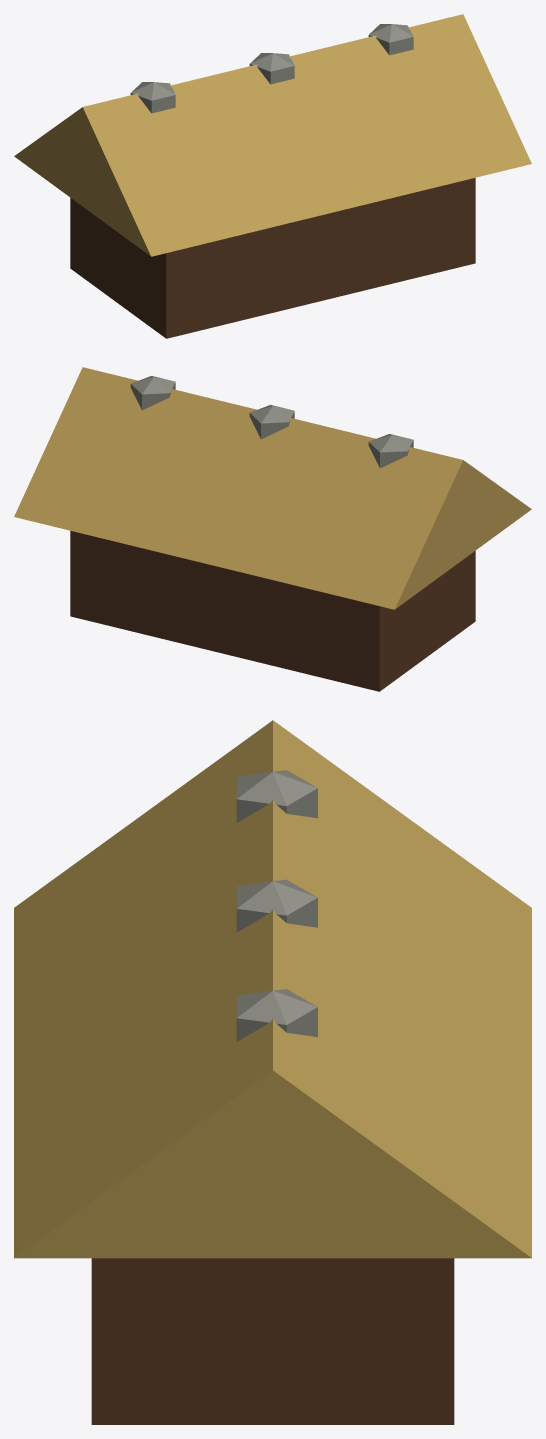
The model's file is prop_life_straw_cover.glb.
3 views of the same model, one above another, from view 1: azimuth 30°, elevation 25°; view 2: azimuth 150°, elevation 25°; view 3: azimuth 270°, elevation 25° (orthographic). The views are drawn at different scales.
Visible parts, largest first — view 1: prop_life_straw_cover; view 2: prop_life_straw_cover; view 3: prop_life_straw_cover.
Boxes of the visible parts, x1,y1,x2,y2 form: prop_life_straw_cover: (14,14,531,338); prop_life_straw_cover: (14,367,531,691); prop_life_straw_cover: (14,720,531,1424).
Size of the model in its own units: 1.6 by 0.855 by 1.
